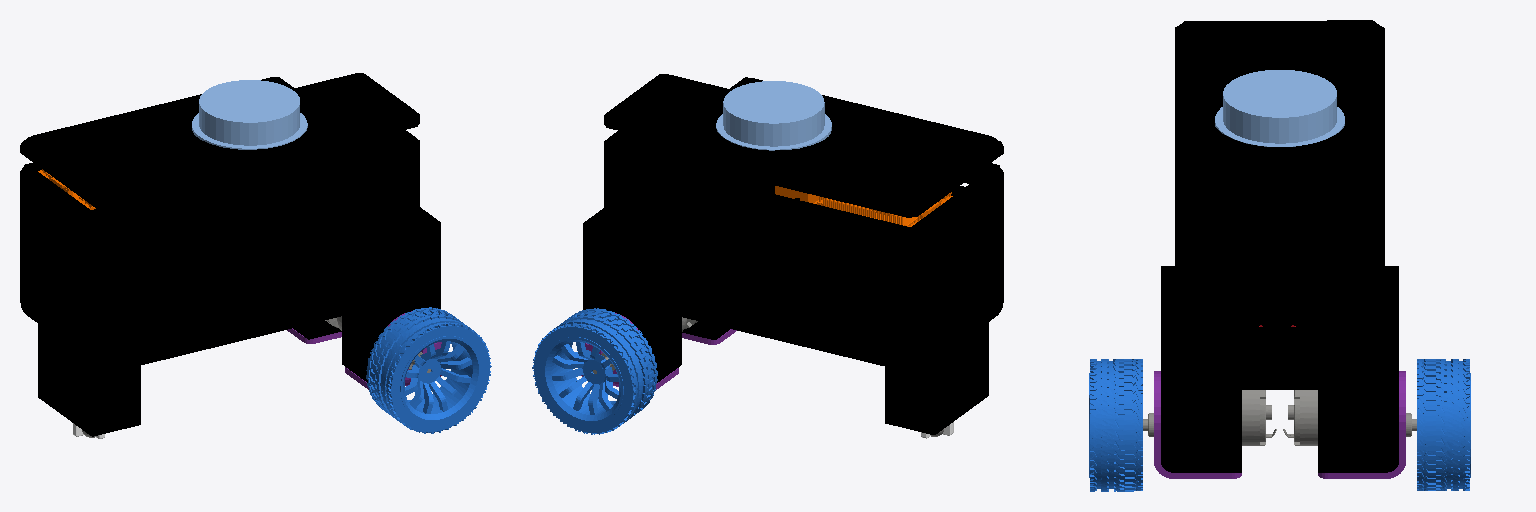
The robot description file, URDF, robot "mosh_b":
<?xml version="1.0"?>
<!-- mosh_b: generated by URDF Forge 2026-11-23T17:18:00.601Z
     Target: ROS 2 Jazzy · Gazebo Harmonic
     REP 103: Z-up, metres, kilograms, radians. -->
<robot name="mosh_b">
  <material name="material_1"><color rgba="0 0 0 1"/></material>
  <material name="material_2"><color rgba="0.6039 0.6 0.5882 1"/></material>
  <material name="material_3"><color rgba="0.2078 0.5176 0.8941 1"/></material>
  <material name="material_4"><color rgba="0.6039 0.6 0.5882 1"/></material>
  <material name="material_5"><color rgba="0.2078 0.5176 0.8941 1"/></material>
  <material name="material_6"><color rgba="0.5686 0.2549 0.6745 1"/></material>
  <material name="material_7"><color rgba="0.5686 0.2549 0.6745 1"/></material>
  <material name="material_8"><color rgba="1 1 1 1"/></material>
  <material name="material_9"><color rgba="0.6039 0.6 0.5882 1"/></material>
  <material name="material_10"><color rgba="1 0.4706 0 1"/></material>
  <material name="material_11"><color rgba="0.7529 0.1098 0.1569 1"/></material>
  <material name="material_12"><color rgba="0.9608 0.7608 0.0667 1"/></material>
  <material name="material_13"><color rgba="0.6 0.7569 0.9451 1"/></material>

  <link name="base_footprint">
    <origin xyz="0 0 0" rpy="0 0 0"/>
  </link>

  <link name="drive_base">
    <inertial>
      <origin xyz="-0.00047505 0.00231833 -0.17083372" rpy="0 0 0"/>
      <mass value="0.62985313"/>
      <inertia ixx="0.0025211258" ixy="0.0000127922" ixz="0.0000068878" iyy="0.0028265428" iyz="-0.0000511373" izz="0.0009966661"/>
    </inertial>
    <visual name="drive_base_visual">
      <origin xyz="0.00129909 -0.08792129 -0.09112" rpy="0 0 0"/>
      <geometry><mesh filename="package://mosh_b_description/meshes/drive_base.stl" scale="1 1 1"/></geometry>
      <material name="material_1"/>
    </visual>
    <collision name="drive_base_collision">
      <origin xyz="0.00129909 -0.08792129 -0.09112" rpy="0 0 0"/>
      <geometry><mesh filename="package://mosh_b_description/meshes/drive_base.stl" scale="1 1 1"/></geometry>
    </collision>
  </link>
  <joint name="drive_base_joint" type="fixed">
    <parent link="base_footprint"/>
    <child link="drive_base"/>
    <!-- Yaw -90 deg: the CAD export drives along its +y, so turn it to face +x (REP 103: x forward, y left, z up) -->
    <origin xyz="-0.00129909 0 0.09112" rpy="0 0 -1.5708"/>
  </joint>

  <link name="right_motor_Link">
    <inertial>
      <origin xyz="0.00009151 0.0017353 -0.0003766" rpy="0 0 0"/>
      <mass value="0.020237"/>
      <inertia ixx="0.0000020523" ixy="0.0000000001" ixz="-0.0000000079" iyy="0.0000020787" iyz="0.0000000139" izz="0.0000028124"/>
    </inertial>
    <visual name="right_motor_Link_visual">
      <origin xyz="0.02139851 0 0.0192874" rpy="0 0 0"/>
      <geometry><mesh filename="package://mosh_b_description/meshes/right_motor_Link.stl" scale="1 1 1"/></geometry>
      <material name="material_2"/>
    </visual>
    <collision name="right_motor_Link_collision">
      <origin xyz="0.02139851 0 0.0192874" rpy="0 0 0"/>
      <geometry><mesh filename="package://mosh_b_description/meshes/right_motor_Link.stl" scale="1 1 1"/></geometry>
    </collision>
  </link>
  <joint name="drive_right" type="fixed">
    <parent link="drive_base"/>
    <child link="right_motor_Link"/>
    <origin xyz="0.0408177 0.08138209 -0.05162" rpy="-1.57079633 0 -1.57923476"/>
  </joint>

  <link name="right_wheel_Link">
    <inertial>
      <origin xyz="-0.00000146 -0.00017356 0.0000001" rpy="0 0 0"/>
      <mass value="0.047543"/>
      <inertia ixx="0.000019511" ixy="0.0000001335" ixz="-0.0000000003" iyy="0.000033937" iyz="-0.0000000291" izz="0.00001951"/>
    </inertial>
    <visual name="right_wheel_Link_visual">
      <origin xyz="0.02124354 0.01156644 -0.0046239" rpy="0 0 0"/>
      <geometry><mesh filename="package://mosh_b_description/meshes/right_wheel_Link.stl" scale="1 1 1"/></geometry>
      <material name="material_3"/>
    </visual>
    <collision name="right_wheel_Link_collision">
      <origin xyz="0.02124354 0.01156644 -0.0046239" rpy="0 0 0"/>
      <geometry><mesh filename="package://mosh_b_description/meshes/right_wheel_Link.stl" scale="1 1 1"/></geometry>
    </collision>
  </link>
  <joint name="right_motor_wheel_joint" type="continuous">
    <parent link="right_motor_Link"/>
    <child link="right_wheel_Link"/>
    <origin xyz="-0.00034244 0.00700044 0.03935382" rpy="-1.5708 0 0.2143"/>
    <axis xyz="0 1 0"/>
    <limit effort="10" velocity="100"/>
  </joint>

  <link name="left_motor_Link">
    <inertial>
      <origin xyz="0.00009098 0.0017353 -0.00037626" rpy="0 0 0"/>
      <mass value="0.020237"/>
      <inertia ixx="0.0000020523" ixy="0.0000000001" ixz="-0.0000000079" iyy="0.0000020787" iyz="0.0000000139" izz="0.0000028124"/>
    </inertial>
    <visual name="left_motor_Link_visual">
      <origin xyz="-0.02056502 0 0.01608174" rpy="0 0 0"/>
      <geometry><mesh filename="package://mosh_b_description/meshes/left_motor_Link.stl" scale="1 1 1"/></geometry>
      <material name="material_4"/>
    </visual>
    <collision name="left_motor_Link_collision">
      <origin xyz="-0.02056502 0 0.01608174" rpy="0 0 0"/>
      <geometry><mesh filename="package://mosh_b_description/meshes/left_motor_Link.stl" scale="1 1 1"/></geometry>
    </collision>
  </link>
  <joint name="drive_left_motor" type="fixed">
    <parent link="drive_base"/>
    <child link="left_motor_Link"/>
    <origin xyz="-0.04081807 0.08123798 -0.05161994" rpy="-1.5708 0 1.5624"/>
  </joint>

  <link name="left_motor_wheel">
    <inertial>
      <origin xyz="-0.00000185 -0.00017337 0.00000007" rpy="0 0 0"/>
      <mass value="0.04754323"/>
      <inertia ixx="0.0000195113" ixy="0.0000001335" ixz="-0.0000000003" iyy="0.0000339375" iyz="-0.0000000291" izz="0.0000195101"/>
    </inertial>
    <visual name="left_motor_wheel_visual">
      <origin xyz="-0.01976006 0.0147721 0.00430036" rpy="0 0 0"/>
      <geometry><mesh filename="package://mosh_b_description/meshes/left_motor_wheel.stl" scale="1 1 1"/></geometry>
      <material name="material_5"/>
    </visual>
    <collision name="left_motor_wheel_collision">
      <origin xyz="-0.01976006 0.0147721 0.00430036" rpy="0 0 0"/>
      <geometry><mesh filename="package://mosh_b_description/meshes/left_motor_wheel.stl" scale="1 1 1"/></geometry>
    </collision>
  </link>
  <joint name="left_motor_wheel_joint" type="continuous">
    <parent link="left_motor_Link"/>
    <child link="left_motor_wheel"/>
    <origin xyz="-0.00034243 0.00700033 0.03935383" rpy="-1.57079633 0 0.21430349"/>
    <axis xyz="0 1 0"/>
    <limit effort="10" velocity="100"/>
  </joint>

  <link name="right_bracket_Link">
    <inertial>
      <origin xyz="0.00066538 -0.00878069 -0.01117956" rpy="0 0 0"/>
      <mass value="0.0095693"/>
      <inertia ixx="0.0000034197" ixy="-0.00000001" ixz="-0.0000000042" iyy="0.0000031272" iyz="-0.000001054" izz="0.000002975"/>
    </inertial>
    <visual name="right_bracket_Link_visual">
      <origin xyz="-0.04094662 -0.01956769 -0.04642056" rpy="0 0 0"/>
      <geometry><mesh filename="package://mosh_b_description/meshes/right_bracket_Link.stl" scale="1 1 1"/></geometry>
      <material name="material_6"/>
    </visual>
    <collision name="right_bracket_Link_collision">
      <origin xyz="-0.04094662 -0.01956769 -0.04642056" rpy="0 0 0"/>
      <geometry><mesh filename="package://mosh_b_description/meshes/right_bracket_Link.stl" scale="1 1 1"/></geometry>
    </collision>
  </link>
  <joint name="right_drive_bracket_joint" type="fixed">
    <parent link="drive_base"/>
    <child link="right_bracket_Link"/>
    <origin xyz="0.05918488 0.08055413 -0.05887748" rpy="1.5708 0 1.5624"/>
  </joint>

  <link name="left_bracket_Link">
    <inertial>
      <origin xyz="0.00093854 -0.00911655 -0.01108967" rpy="0 0 0"/>
      <mass value="0.0095693"/>
      <inertia ixx="0.0000034197" ixy="-0.00000001" ixz="-0.0000000042" iyy="0.0000031272" iyz="-0.000001054" izz="0.000002975"/>
    </inertial>
    <visual name="left_bracket_Link_visual">
      <origin xyz="0.00129055 -0.01990355 -0.04953567" rpy="0 0 0"/>
      <geometry><mesh filename="package://mosh_b_description/meshes/left_bracket_Link.stl" scale="1 1 1"/></geometry>
      <material name="material_7"/>
    </visual>
    <collision name="left_bracket_Link_collision">
      <origin xyz="0.00129055 -0.01990355 -0.04953567" rpy="0 0 0"/>
      <geometry><mesh filename="package://mosh_b_description/meshes/left_bracket_Link.stl" scale="1 1 1"/></geometry>
    </collision>
  </link>
  <joint name="left_drive_bracket_joint" type="fixed">
    <parent link="drive_base"/>
    <child link="left_bracket_Link"/>
    <origin xyz="-0.05909406 0.08224549 -0.05854163" rpy="1.5708 0 -1.5792"/>
  </joint>

  <link name="castor_frame_Link">
    <inertial>
      <origin xyz="0 0 0" rpy="0 0 0"/>
      <mass value="0.0032177"/>
      <inertia ixx="0.0000001763" ixy="0.0000000025" ixz="0.0000000003" iyy="0.0000004415" iyz="0" izz="0.0000004877"/>
    </inertial>
    <visual name="castor_frame_Link_visual">
      <origin xyz="-0.00002099 0.0000002 0.015845" rpy="0 0 0"/>
      <geometry><mesh filename="package://mosh_b_description/meshes/castor_frame_Link.stl" scale="1 1 1"/></geometry>
      <material name="material_8"/>
    </visual>
    <collision name="castor_frame_Link_collision">
      <origin xyz="-0.00002099 0.0000002 0.015845" rpy="0 0 0"/>
      <geometry><mesh filename="package://mosh_b_description/meshes/castor_frame_Link.stl" scale="1 1 1"/></geometry>
    </collision>
  </link>
  <joint name="drive_castorFrame_joint" type="fixed">
    <parent link="drive_base"/>
    <child link="castor_frame_Link"/>
    <origin xyz="0.0012781 -0.08792143 -0.075275" rpy="3.14158531 0 3.1333"/>
  </joint>

  <link name="castor_wheel_Link">
    <inertial>
      <origin xyz="-0.00000542 0 0.00000227" rpy="0 0 0"/>
      <mass value="0.00176715"/>
      <inertia ixx="0.0000000398" ixy="0" ixz="0" iyy="0.0000000398" iyz="0" izz="0.0000000398"/>
    </inertial>
    <visual name="castor_wheel_Link_visual">
      <origin xyz="-0.00000542 -0.0075 0.00000227" rpy="0 0 0"/>
      <geometry><mesh filename="package://mosh_b_description/meshes/castor_wheel_Link.stl" scale="1 1 1"/></geometry>
      <material name="material_9"/>
    </visual>
    <collision name="castor_wheel_Link_collision">
      <origin xyz="-0.00000542 -0.0075 0.00000227" rpy="0 0 0"/>
      <geometry><mesh filename="package://mosh_b_description/meshes/castor_wheel_Link.stl" scale="1 1 1"/></geometry>
    </collision>
  </link>
  <joint name="caster_wheel_joint" type="continuous">
    <parent link="castor_frame_Link"/>
    <child link="castor_wheel_Link"/>
    <origin xyz="-0.00001889 0.00000569 0.008345" rpy="-1.57079633 0 1.60196599"/>
    <axis xyz="0 0 1"/>
    <limit effort="10" velocity="100"/>
  </joint>

  <link name="raspberry_pi_Link">
    <inertial>
      <origin xyz="0 0.00755418 -0.00000003" rpy="0 0 0"/>
      <mass value="0.018782"/>
      <inertia ixx="0.0000022836" ixy="-0.0000000062" ixz="0.0000000359" iyy="0.0000069807" iyz="0.0000000002" izz="0.0000050181"/>
    </inertial>
    <visual name="raspberry_pi_Link_visual">
      <origin xyz="-0.01436 -0.00463882 0.00095976" rpy="0 0 0"/>
      <geometry><mesh filename="package://mosh_b_description/meshes/raspberry_pi_Link.stl" scale="1 1 1"/></geometry>
      <material name="material_10"/>
    </visual>
    <collision name="raspberry_pi_Link_collision">
      <origin xyz="-0.01436 -0.00463882 0.00095976" rpy="0 0 0"/>
      <geometry><mesh filename="package://mosh_b_description/meshes/raspberry_pi_Link.stl" scale="1 1 1"/></geometry>
    </collision>
  </link>
  <joint name="drive_raspPi_joint" type="fixed">
    <parent link="drive_base"/>
    <child link="raspberry_pi_Link"/>
    <origin xyz="-0.01891105 -0.04345674 0.04888883" rpy="1.5708 0 1.5624"/>
  </joint>

  <link name="l298n_Link">
    <inertial>
      <origin xyz="0 0.00773565 -0.00000003" rpy="0 0 0"/>
      <mass value="0.0074851"/>
      <inertia ixx="0.0000011237" ixy="0.0000002216" ixz="-0.0000000386" iyy="0.0000019059" iyz="-0.0000000021" izz="0.000001373"/>
    </inertial>
    <visual name="l298n_Link_visual">
      <origin xyz="0.0082186 0.01165785 -0.00047267" rpy="0 0 0"/>
      <geometry><mesh filename="package://mosh_b_description/meshes/l298n_Link.stl" scale="1 1 1"/></geometry>
      <material name="material_11"/>
    </visual>
    <collision name="l298n_Link_collision">
      <origin xyz="0.0082186 0.01165785 -0.00047267" rpy="0 0 0"/>
      <geometry><mesh filename="package://mosh_b_description/meshes/l298n_Link.stl" scale="1 1 1"/></geometry>
    </collision>
  </link>
  <joint name="drive_l298n_joint" type="fixed">
    <parent link="drive_base"/>
    <child link="l298n_Link"/>
    <origin xyz="-0.00147042 0.07964684 -0.02394885" rpy="1.5708 0 -1.5698"/>
  </joint>

  <link name="buck_converter_Link">
    <inertial>
      <origin xyz="-0.0010915 0.01045079 0.00001715" rpy="0 0 0"/>
      <mass value="0.024393"/>
      <inertia ixx="0.0000012157" ixy="0.0000000005" ixz="0" iyy="0.000003874" iyz="0" izz="0.0000037052"/>
    </inertial>
    <visual name="buck_converter_Link_visual">
      <origin xyz="0 0.00147189 -0.00000001" rpy="0 0 0"/>
      <geometry><mesh filename="package://mosh_b_description/meshes/buck_converter_Link.stl" scale="1 1 1"/></geometry>
      <material name="material_12"/>
    </visual>
    <collision name="buck_converter_Link_collision">
      <origin xyz="0 0.00147189 -0.00000001" rpy="0 0 0"/>
      <geometry><mesh filename="package://mosh_b_description/meshes/buck_converter_Link.stl" scale="1 1 1"/></geometry>
    </collision>
  </link>
  <joint name="drive_xl4016_joint" type="fixed">
    <parent link="drive_base"/>
    <child link="buck_converter_Link"/>
    <origin xyz="-0.02324191 0.02483871 0.00887811" rpy="1.5708 0 -1.5698"/>
  </joint>

  <link name="lidar_Link">
    <inertial>
      <origin xyz="0.00002186 0.00006744 -0.01344365" rpy="0 0 0"/>
      <mass value="0.024644"/>
      <inertia ixx="0.0000078033" ixy="0.0000000277" ixz="-0.0000000124" iyy="0.0000075949" iyz="0.0000000113" izz="0.000013653"/>
    </inertial>
    <visual name="lidar_Link_visual">
      <origin xyz="0 0.00000574 -0.01385795" rpy="0 0 0"/>
      <geometry><mesh filename="package://mosh_b_description/meshes/lidar_Link.stl" scale="1 1 1"/></geometry>
      <material name="material_13"/>
    </visual>
    <collision name="lidar_Link_collision">
      <origin xyz="0 0.00000574 -0.01385795" rpy="0 0 0"/>
      <geometry><mesh filename="package://mosh_b_description/meshes/lidar_Link.stl" scale="1 1 1"/></geometry>
    </collision>
  </link>
  <joint name="drive_lidar_joint" type="continuous">
    <parent link="drive_base"/>
    <child link="lidar_Link"/>
    <origin xyz="-0.00005315 0.01338882 0.08885796" rpy="0 0 -1.5904"/>
    <axis xyz="0 0 1"/>
    <limit effort="10" velocity="2"/>
  </joint>

  <!-- Simulator: Gazebo Harmonic -->
  <gazebo reference="base_footprint">
    <mu1>0.8</mu1>
    <mu2>0.8</mu2>
    <kp>1000000</kp>
    <kd>100</kd>
    <minDepth>0.001</minDepth>
    <maxVel>0.01</maxVel>
    <selfCollide>false</selfCollide>
    <visual>
      <material>
        <ambient>0 0 0 1</ambient>
        <diffuse>0 0 0 1</diffuse>
        <specular>0.1 0.1 0.1 1</specular>
        <pbr><metal><metalness>0.15</metalness><roughness>0.55</roughness></metal></pbr>
      </material>
    </visual>
  </gazebo>
  <gazebo reference="drive_base">
    <mu1>0.8</mu1>
    <mu2>0.8</mu2>
    <kp>1000000</kp>
    <kd>100</kd>
    <minDepth>0.001</minDepth>
    <maxVel>0.01</maxVel>
    <selfCollide>false</selfCollide>
    <visual>
      <material>
        <ambient>0 0 0 1</ambient>
        <diffuse>0 0 0 1</diffuse>
        <specular>0.1 0.1 0.1 1</specular>
        <pbr><metal><metalness>0.15</metalness><roughness>0.55</roughness></metal></pbr>
      </material>
    </visual>
  </gazebo>
  <gazebo reference="right_motor_Link">
    <mu1>0.8</mu1>
    <mu2>0.8</mu2>
    <kp>1000000</kp>
    <kd>100</kd>
    <minDepth>0.001</minDepth>
    <maxVel>0.01</maxVel>
    <selfCollide>false</selfCollide>
    <visual>
      <material>
        <ambient>0.6039 0.6 0.5882 1</ambient>
        <diffuse>0.6039 0.6 0.5882 1</diffuse>
        <specular>0.1 0.1 0.1 1</specular>
        <pbr><metal><metalness>0.15</metalness><roughness>0.55</roughness></metal></pbr>
      </material>
    </visual>
  </gazebo>
  <gazebo reference="right_wheel_Link">
    <mu1>0.8</mu1>
    <mu2>0.8</mu2>
    <kp>1000000</kp>
    <kd>100</kd>
    <minDepth>0.001</minDepth>
    <maxVel>0.01</maxVel>
    <selfCollide>false</selfCollide>
    <visual>
      <material>
        <ambient>0.2078 0.5176 0.8941 1</ambient>
        <diffuse>0.2078 0.5176 0.8941 1</diffuse>
        <specular>0.1 0.1 0.1 1</specular>
        <pbr><metal><metalness>0.15</metalness><roughness>0.55</roughness></metal></pbr>
      </material>
    </visual>
  </gazebo>
  <gazebo reference="left_motor_Link">
    <mu1>0.8</mu1>
    <mu2>0.8</mu2>
    <kp>1000000</kp>
    <kd>100</kd>
    <minDepth>0.001</minDepth>
    <maxVel>0.01</maxVel>
    <selfCollide>false</selfCollide>
    <visual>
      <material>
        <ambient>0.6039 0.6 0.5882 1</ambient>
        <diffuse>0.6039 0.6 0.5882 1</diffuse>
        <specular>0.1 0.1 0.1 1</specular>
        <pbr><metal><metalness>0.15</metalness><roughness>0.55</roughness></metal></pbr>
      </material>
    </visual>
  </gazebo>
  <gazebo reference="left_motor_wheel">
    <mu1>0.8</mu1>
    <mu2>0.8</mu2>
    <kp>1000000</kp>
    <kd>100</kd>
    <minDepth>0.001</minDepth>
    <maxVel>0.01</maxVel>
    <selfCollide>false</selfCollide>
    <visual>
      <material>
        <ambient>0.2078 0.5176 0.8941 1</ambient>
        <diffuse>0.2078 0.5176 0.8941 1</diffuse>
        <specular>0.1 0.1 0.1 1</specular>
        <pbr><metal><metalness>0.15</metalness><roughness>0.55</roughness></metal></pbr>
      </material>
    </visual>
  </gazebo>
  <gazebo reference="right_bracket_Link">
    <mu1>0.8</mu1>
    <mu2>0.8</mu2>
    <kp>1000000</kp>
    <kd>100</kd>
    <minDepth>0.001</minDepth>
    <maxVel>0.01</maxVel>
    <selfCollide>false</selfCollide>
    <visual>
      <material>
        <ambient>0.5686 0.2549 0.6745 1</ambient>
        <diffuse>0.5686 0.2549 0.6745 1</diffuse>
        <specular>0.1 0.1 0.1 1</specular>
        <pbr><metal><metalness>0.15</metalness><roughness>0.55</roughness></metal></pbr>
      </material>
    </visual>
  </gazebo>
  <gazebo reference="left_bracket_Link">
    <mu1>0.8</mu1>
    <mu2>0.8</mu2>
    <kp>1000000</kp>
    <kd>100</kd>
    <minDepth>0.001</minDepth>
    <maxVel>0.01</maxVel>
    <selfCollide>false</selfCollide>
    <visual>
      <material>
        <ambient>0.5686 0.2549 0.6745 1</ambient>
        <diffuse>0.5686 0.2549 0.6745 1</diffuse>
        <specular>0.1 0.1 0.1 1</specular>
        <pbr><metal><metalness>0.15</metalness><roughness>0.55</roughness></metal></pbr>
      </material>
    </visual>
  </gazebo>
  <gazebo reference="castor_frame_Link">
    <mu1>0.8</mu1>
    <mu2>0.8</mu2>
    <kp>1000000</kp>
    <kd>100</kd>
    <minDepth>0.001</minDepth>
    <maxVel>0.01</maxVel>
    <selfCollide>false</selfCollide>
    <visual>
      <material>
        <ambient>1 1 1 1</ambient>
        <diffuse>1 1 1 1</diffuse>
        <specular>0.1 0.1 0.1 1</specular>
        <pbr><metal><metalness>0.15</metalness><roughness>0.55</roughness></metal></pbr>
      </material>
    </visual>
  </gazebo>
  <gazebo reference="castor_wheel_Link">
    <mu1>0.8</mu1>
    <mu2>0.8</mu2>
    <kp>1000000</kp>
    <kd>100</kd>
    <minDepth>0.001</minDepth>
    <maxVel>0.01</maxVel>
    <selfCollide>false</selfCollide>
    <visual>
      <material>
        <ambient>0.6039 0.6 0.5882 1</ambient>
        <diffuse>0.6039 0.6 0.5882 1</diffuse>
        <specular>0.1 0.1 0.1 1</specular>
        <pbr><metal><metalness>0.15</metalness><roughness>0.55</roughness></metal></pbr>
      </material>
    </visual>
  </gazebo>
  <gazebo reference="raspberry_pi_Link">
    <mu1>0.8</mu1>
    <mu2>0.8</mu2>
    <kp>1000000</kp>
    <kd>100</kd>
    <minDepth>0.001</minDepth>
    <maxVel>0.01</maxVel>
    <selfCollide>false</selfCollide>
    <visual>
      <material>
        <ambient>1 0.4706 0 1</ambient>
        <diffuse>1 0.4706 0 1</diffuse>
        <specular>0.1 0.1 0.1 1</specular>
        <pbr><metal><metalness>0.15</metalness><roughness>0.55</roughness></metal></pbr>
      </material>
    </visual>
  </gazebo>
  <gazebo reference="l298n_Link">
    <mu1>0.8</mu1>
    <mu2>0.8</mu2>
    <kp>1000000</kp>
    <kd>100</kd>
    <minDepth>0.001</minDepth>
    <maxVel>0.01</maxVel>
    <selfCollide>false</selfCollide>
    <visual>
      <material>
        <ambient>0.7529 0.1098 0.1569 1</ambient>
        <diffuse>0.7529 0.1098 0.1569 1</diffuse>
        <specular>0.1 0.1 0.1 1</specular>
        <pbr><metal><metalness>0.15</metalness><roughness>0.55</roughness></metal></pbr>
      </material>
    </visual>
  </gazebo>
  <gazebo reference="buck_converter_Link">
    <mu1>0.8</mu1>
    <mu2>0.8</mu2>
    <kp>1000000</kp>
    <kd>100</kd>
    <minDepth>0.001</minDepth>
    <maxVel>0.01</maxVel>
    <selfCollide>false</selfCollide>
    <visual>
      <material>
        <ambient>0.9608 0.7608 0.0667 1</ambient>
        <diffuse>0.9608 0.7608 0.0667 1</diffuse>
        <specular>0.1 0.1 0.1 1</specular>
        <pbr><metal><metalness>0.15</metalness><roughness>0.55</roughness></metal></pbr>
      </material>
    </visual>
  </gazebo>
  <gazebo reference="lidar_Link">
    <mu1>0.8</mu1>
    <mu2>0.8</mu2>
    <kp>1000000</kp>
    <kd>100</kd>
    <minDepth>0.001</minDepth>
    <maxVel>0.01</maxVel>
    <selfCollide>false</selfCollide>
    <visual>
      <material>
        <ambient>0.6 0.7569 0.9451 1</ambient>
        <diffuse>0.6 0.7569 0.9451 1</diffuse>
        <specular>0.1 0.1 0.1 1</specular>
        <pbr><metal><metalness>0.15</metalness><roughness>0.55</roughness></metal></pbr>
      </material>
    </visual>
  </gazebo>
  <gazebo>
    <plugin filename="gz-sim-joint-state-publisher-system" name="gz::sim::systems::JointStatePublisher">
      <topic>joint_states</topic>
    </plugin>
  </gazebo>
</robot>

--- Render facts (derived) ---
Views: 3 orthographic renders of the robot side by side, from view 1: azimuth 30°, elevation 25°; view 2: azimuth 150°, elevation 25°; view 3: azimuth 270°, elevation 25°.
Robot: mosh_b — 14 links, 13 joints (4 continuous, 9 fixed); root link base_footprint; default pose: all joints at 0.
Visible links, largest first — view 1: drive_base, right_wheel_Link, lidar_Link; view 2: drive_base, left_motor_wheel, lidar_Link, raspberry_pi_Link; view 3: drive_base, lidar_Link, right_wheel_Link, left_motor_wheel, right_motor_Link, left_motor_Link, left_bracket_Link, right_bracket_Link.
Boxes of the visible links, x1,y1,x2,y2 form: drive_base: [20, 73, 440, 436]; right_wheel_Link: [366, 307, 491, 433]; lidar_Link: [192, 80, 307, 149]; drive_base: [583, 74, 1003, 434]; left_motor_wheel: [532, 308, 657, 434]; lidar_Link: [716, 81, 831, 150]; raspberry_pi_Link: [775, 186, 952, 226]; drive_base: [1161, 20, 1398, 472]; lidar_Link: [1215, 70, 1344, 146]; right_wheel_Link: [1089, 359, 1142, 491]; left_motor_wheel: [1417, 359, 1470, 490]; right_motor_Link: [1143, 390, 1276, 445]; left_motor_Link: [1283, 390, 1416, 445]; left_bracket_Link: [1318, 371, 1405, 478]; right_bracket_Link: [1154, 371, 1241, 478].
Size in the robot's own frame: 0.2194 by 0.1869 by 0.1801 metres.
Meshes: 13 distinct files referenced, 12 mesh visuals loaded (12 binary STL); not drawn: 1 (reference not matched to a file when rendering).
